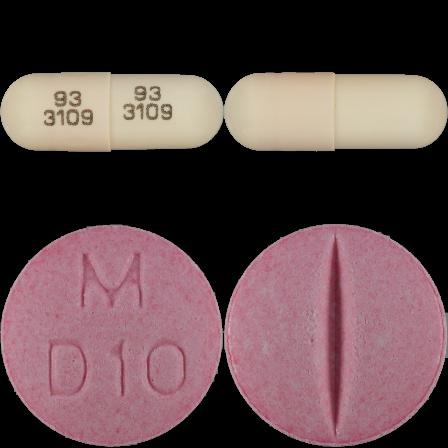55289-020: (0, 0, 224, 224)
